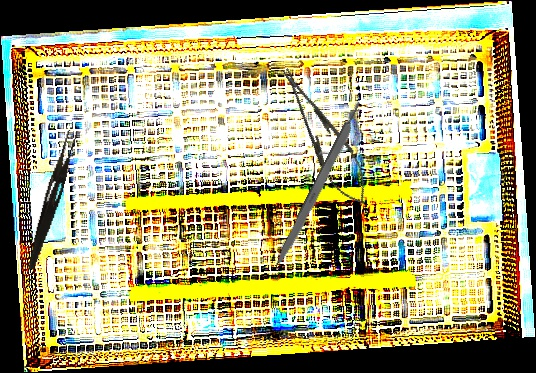Dressing Forceps: (25, 128, 79, 272)
Needle Holder: (269, 60, 380, 213)
Scalpel Handle: (272, 99, 367, 271)
